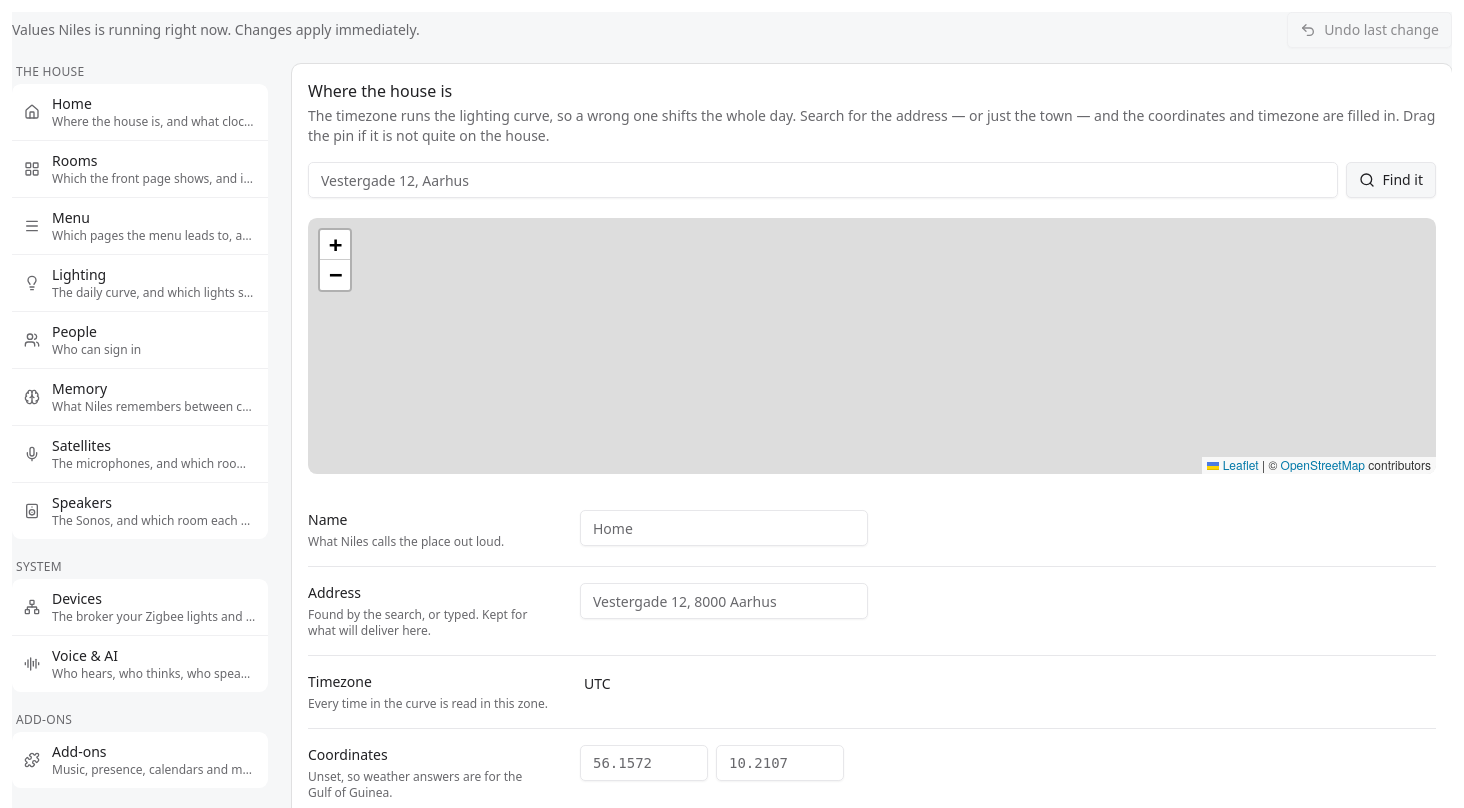
Test: ConfigPanel › says on People that a list without a GitHub app switches nothing on
Click the button "People Who can sign in": (140, 340) [12, 312, 268, 369]
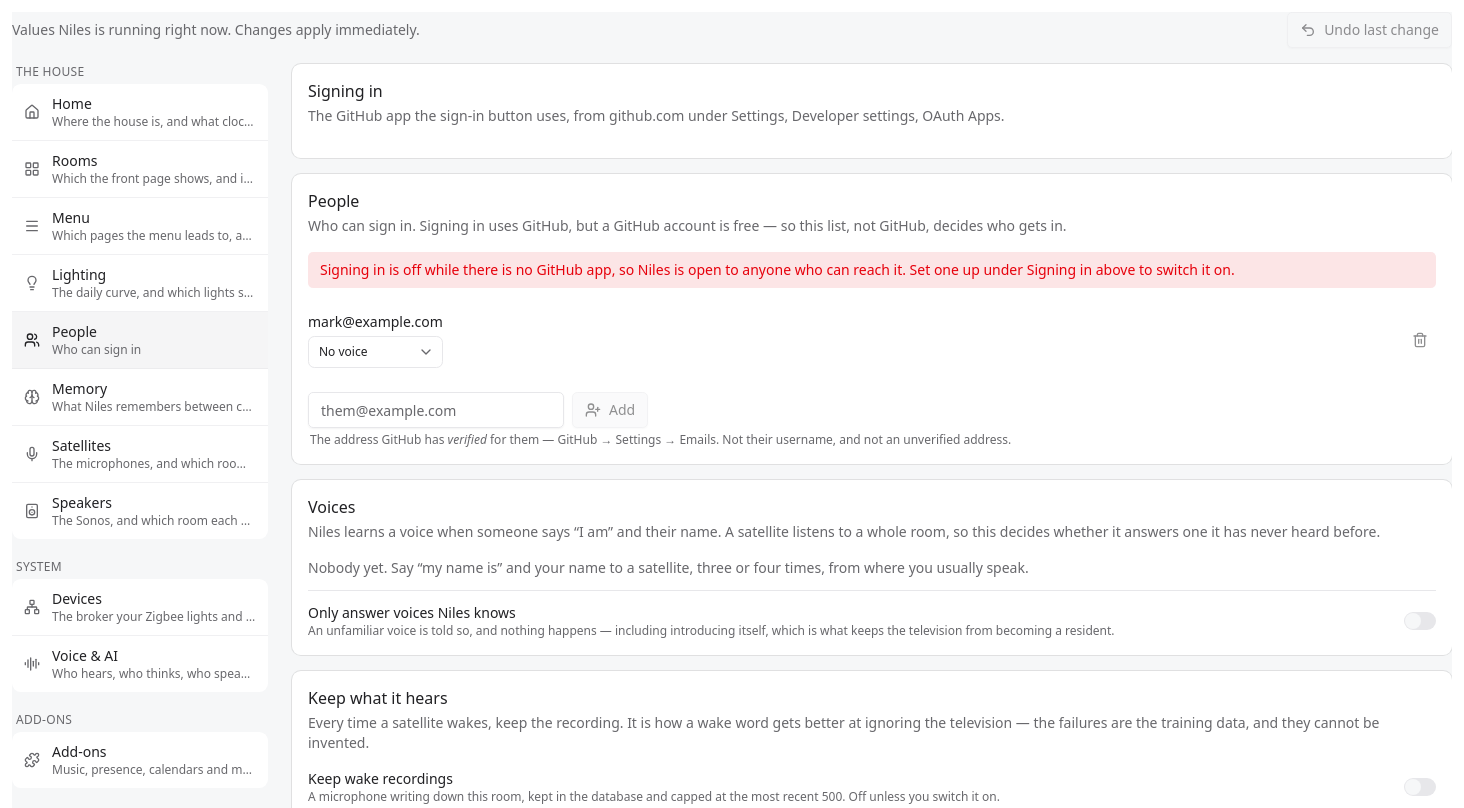
Now the text "Signing in is off while there is no GitHub app" is shown, box [320, 260, 1235, 279]
